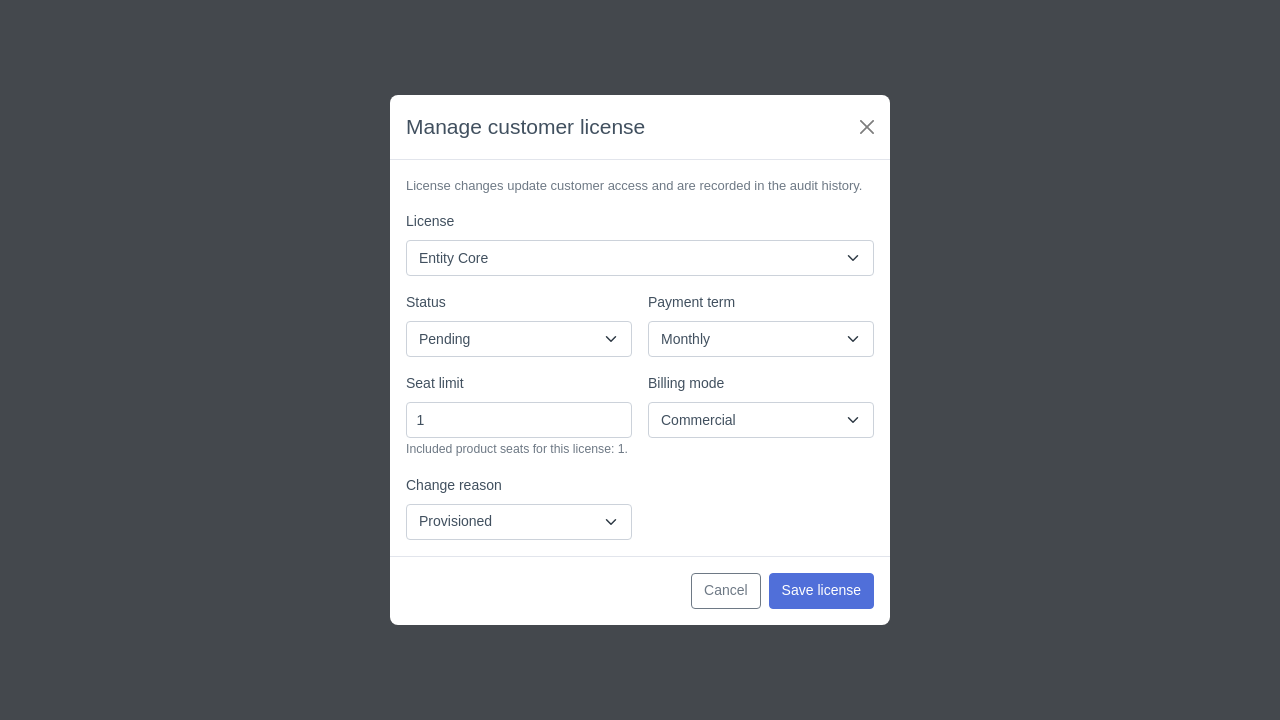
Test: SubscriptionModal › uses contract-managed billing for Firm-Wide Enterprise
Select "Firm-Wide Enterprise" in the dropdown labelled "License": (640, 258) [406,240,874,276]
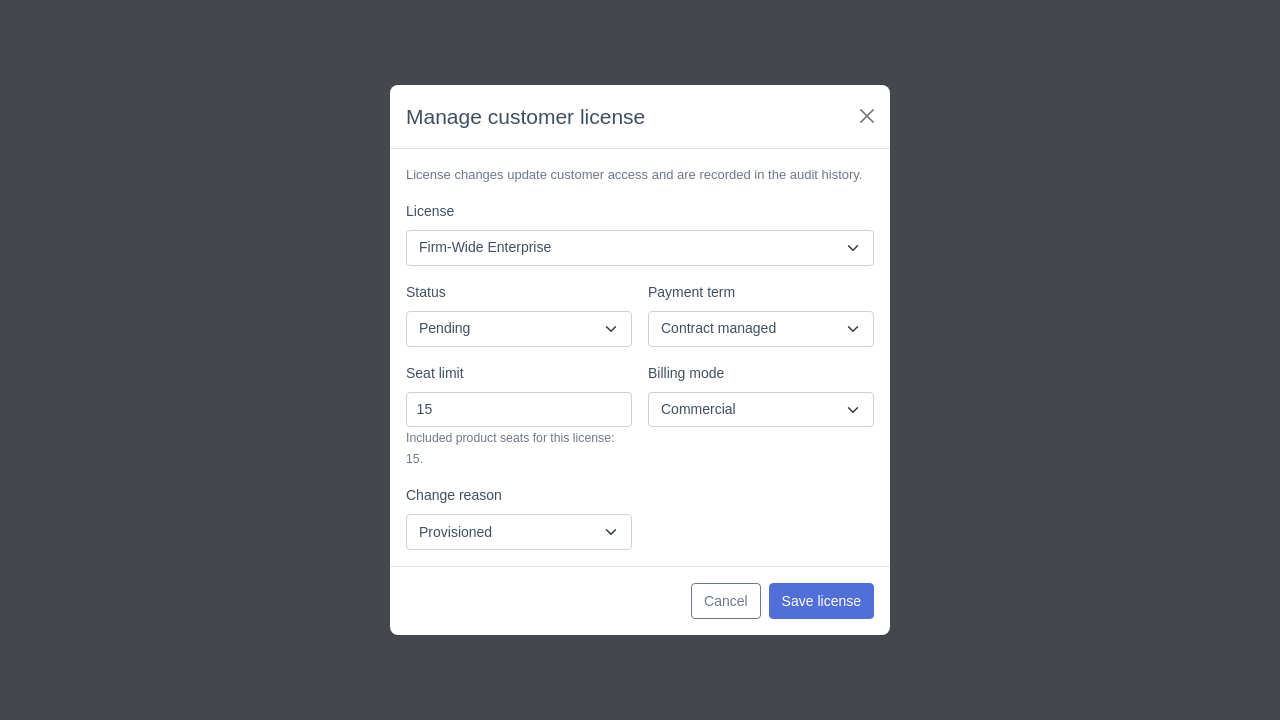
Expected: the dropdown labelled "Payment term" shows "Contract managed", [648,310,874,346]
Expected: the number field labelled "Seat limit" holds "15", [406,392,632,428]
